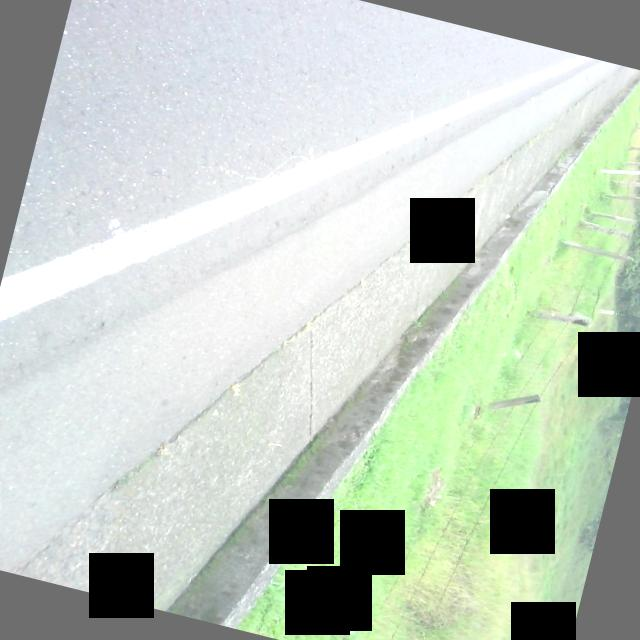DITCH: (0, 0, 640, 640), (0, 0, 640, 640), (0, 0, 565, 640)
